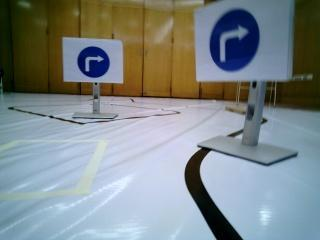right: (191, 0, 282, 78), (65, 40, 120, 82)
